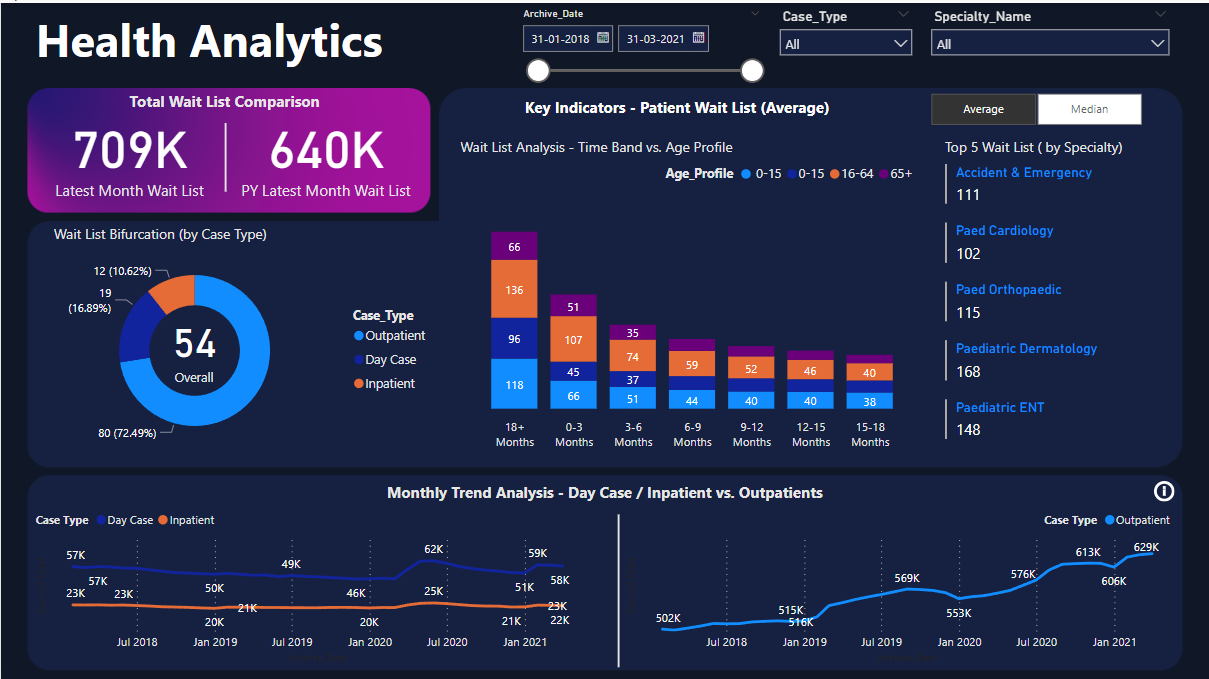

The dashboard page shown, as its layout file describes it:
{"tool":"powerbi","page":{"name":"Summary","canvas":[1280,720],"ordinal":0},"visuals":[{"type":"card","fields":{"Values":["All_Data.Latest Month Wait List"]},"box":[32,103.6,208,112],"z":0},{"type":"card","fields":{"Values":["All_Data.PY Latest Month Wait List"]},"box":[240,103.6,208,112],"z":1000},{"type":"slicer","fields":{"Values":["Calculation Method.Calc Method"]},"box":[960,89.1,272.7,47.3],"z":2000},{"type":"donutChart","fields":{"Category":["All_Data.Case_Type"],"Y":["All_Data.Avg/Med Wait List"]},"box":[32,256,432,224],"z":3000},{"type":"columnChart","fields":{"Y":["All_Data.Avg/Med Wait List"],"Category":["All_Data.Time_Bands"],"Series":["All_Data.Age_Profile"]},"box":[480,160,496,320],"z":4000},{"type":"multiRowCard","fields":{"Values":["All_Data.Specialty_Name","All_Data.Avg/Med Wait List"]},"box":[994.5,165.5,254.5,336.4],"z":5000},{"type":"card","fields":{"Values":["All_Data.Dynamic Title"]},"box":[479.6,89.3,472.1,46.9],"z":6000},{"type":"card","fields":{"Values":["All_Data.NoDataLeft"]},"box":[208.8,576.5,222.4,115],"z":6500},{"type":"lineChart","fields":{"Category":["All_Data.Archive_Date"],"Y":["Sum(All_Data.Total)"],"Series":["All_Data.Case_Type"]},"box":[32,528,592,176],"z":7000},{"type":"slicer","fields":{"Values":["All_Data.Archive_Date"]},"box":[540,0,276.4,107.3],"z":8000},{"type":"slicer","fields":{"Values":["All_Data.Case_Type"]},"box":[816,0,160,80],"z":9000},{"type":"slicer","fields":{"Values":["All_Data.Specialty_Name"]},"box":[976,0,272,80],"z":10000},{"type":"textbox","box":[32,0,400,80],"z":11000},{"type":"card","fields":{"Values":["All_Data.NoDataRight"]},"box":[847.3,576.5,222.4,115],"z":12000},{"type":"lineChart","fields":{"Category":["All_Data.Archive_Date"],"Y":["Sum(All_Data.Total)"],"Series":["All_Data.Case_Type"]},"box":[656,528,592,176],"z":13000},{"type":"card","fields":{"Values":["All_Data.Avg/Med Wait List"]},"box":[147.3,316.4,112.7,96.4],"z":14000},{"type":"shape","box":[209.1,127.3,56.4,72.7],"z":15000},{"type":"textbox","box":[78.2,87.3,318.2,40],"z":16000},{"type":"textbox","box":[254.5,501.8,770.9,40],"z":17000},{"type":"shape","box":[625.5,541.8,56.4,161.8],"z":18000},{"type":"textbox","box":[481.1,136.2,378.3,40.9],"z":19000},{"type":"textbox","box":[994.5,136.4,285.5,40],"z":20000},{"type":"textbox","box":[50.9,229.1,316.4,40],"z":21000},{"type":"actionButton","box":[1218,502.3,48.4,30.3],"z":23000}]}

Visuals, with their boxes in screenshot pixels (x1, y1, x2, y2), scaled from the page's 1280x720 canvas onto the 1209x679 screenshot:
card - All_Data.Latest Month Wait List: bbox=(30, 98, 227, 203)
card - All_Data.PY Latest Month Wait List: bbox=(227, 98, 423, 203)
slicer - Calculation Method.Calc Method: bbox=(907, 84, 1164, 129)
donutChart - All_Data.Case_Type x All_Data.Avg/Med Wait List: bbox=(30, 241, 438, 453)
columnChart - All_Data.Avg/Med Wait List x All_Data.Time_Bands: bbox=(453, 151, 922, 453)
multiRowCard - All_Data.Specialty_Name x All_Data.Avg/Med Wait List: bbox=(939, 156, 1180, 473)
card - All_Data.Dynamic Title: bbox=(453, 84, 899, 128)
card - All_Data.NoDataLeft: bbox=(197, 544, 407, 652)
lineChart - All_Data.Archive_Date x Sum(All_Data.Total): bbox=(30, 498, 589, 664)
slicer - All_Data.Archive_Date: bbox=(510, 0, 771, 101)
slicer - All_Data.Case_Type: bbox=(771, 0, 922, 75)
slicer - All_Data.Specialty_Name: bbox=(922, 0, 1179, 75)
textbox: bbox=(30, 0, 408, 75)
card - All_Data.NoDataRight: bbox=(800, 544, 1010, 652)
lineChart - All_Data.Archive_Date x Sum(All_Data.Total): bbox=(620, 498, 1179, 664)
card - All_Data.Avg/Med Wait List: bbox=(139, 298, 246, 389)
shape: bbox=(198, 120, 251, 189)
textbox: bbox=(74, 82, 374, 120)
textbox: bbox=(240, 473, 969, 511)
shape: bbox=(591, 511, 644, 664)
textbox: bbox=(454, 128, 812, 167)
textbox: bbox=(939, 129, 1208, 166)
textbox: bbox=(48, 216, 347, 254)
actionButton: bbox=(1150, 474, 1196, 502)
